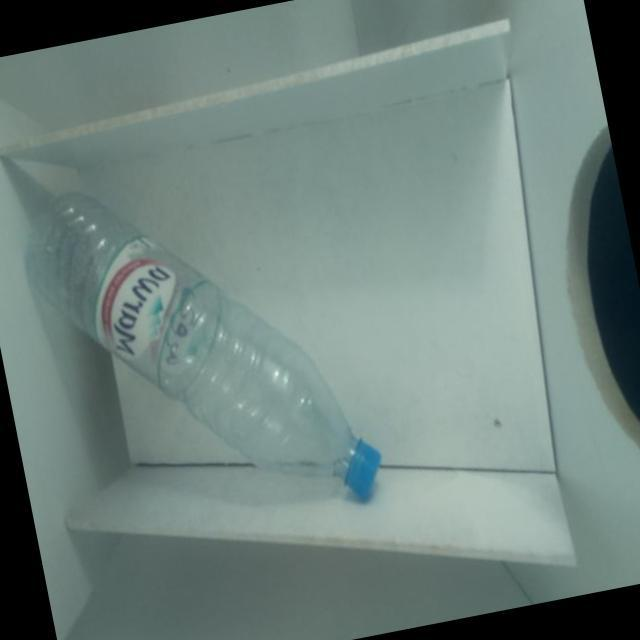good: (1, 123, 396, 561)
